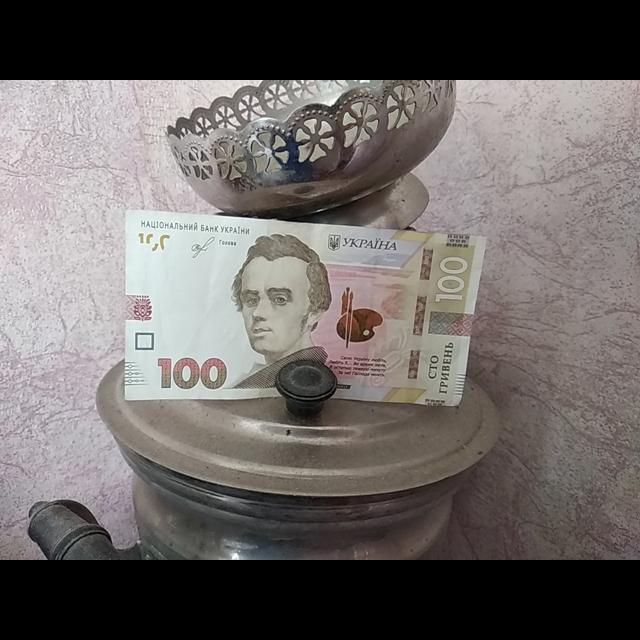100uah: (125, 210, 489, 405)
